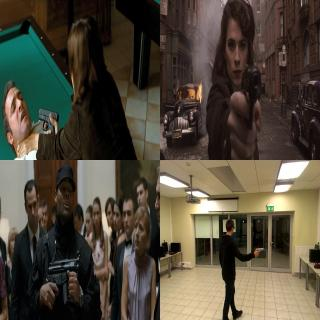gun: (228, 59, 265, 159), (44, 250, 80, 312), (37, 105, 60, 136), (253, 245, 264, 257)
